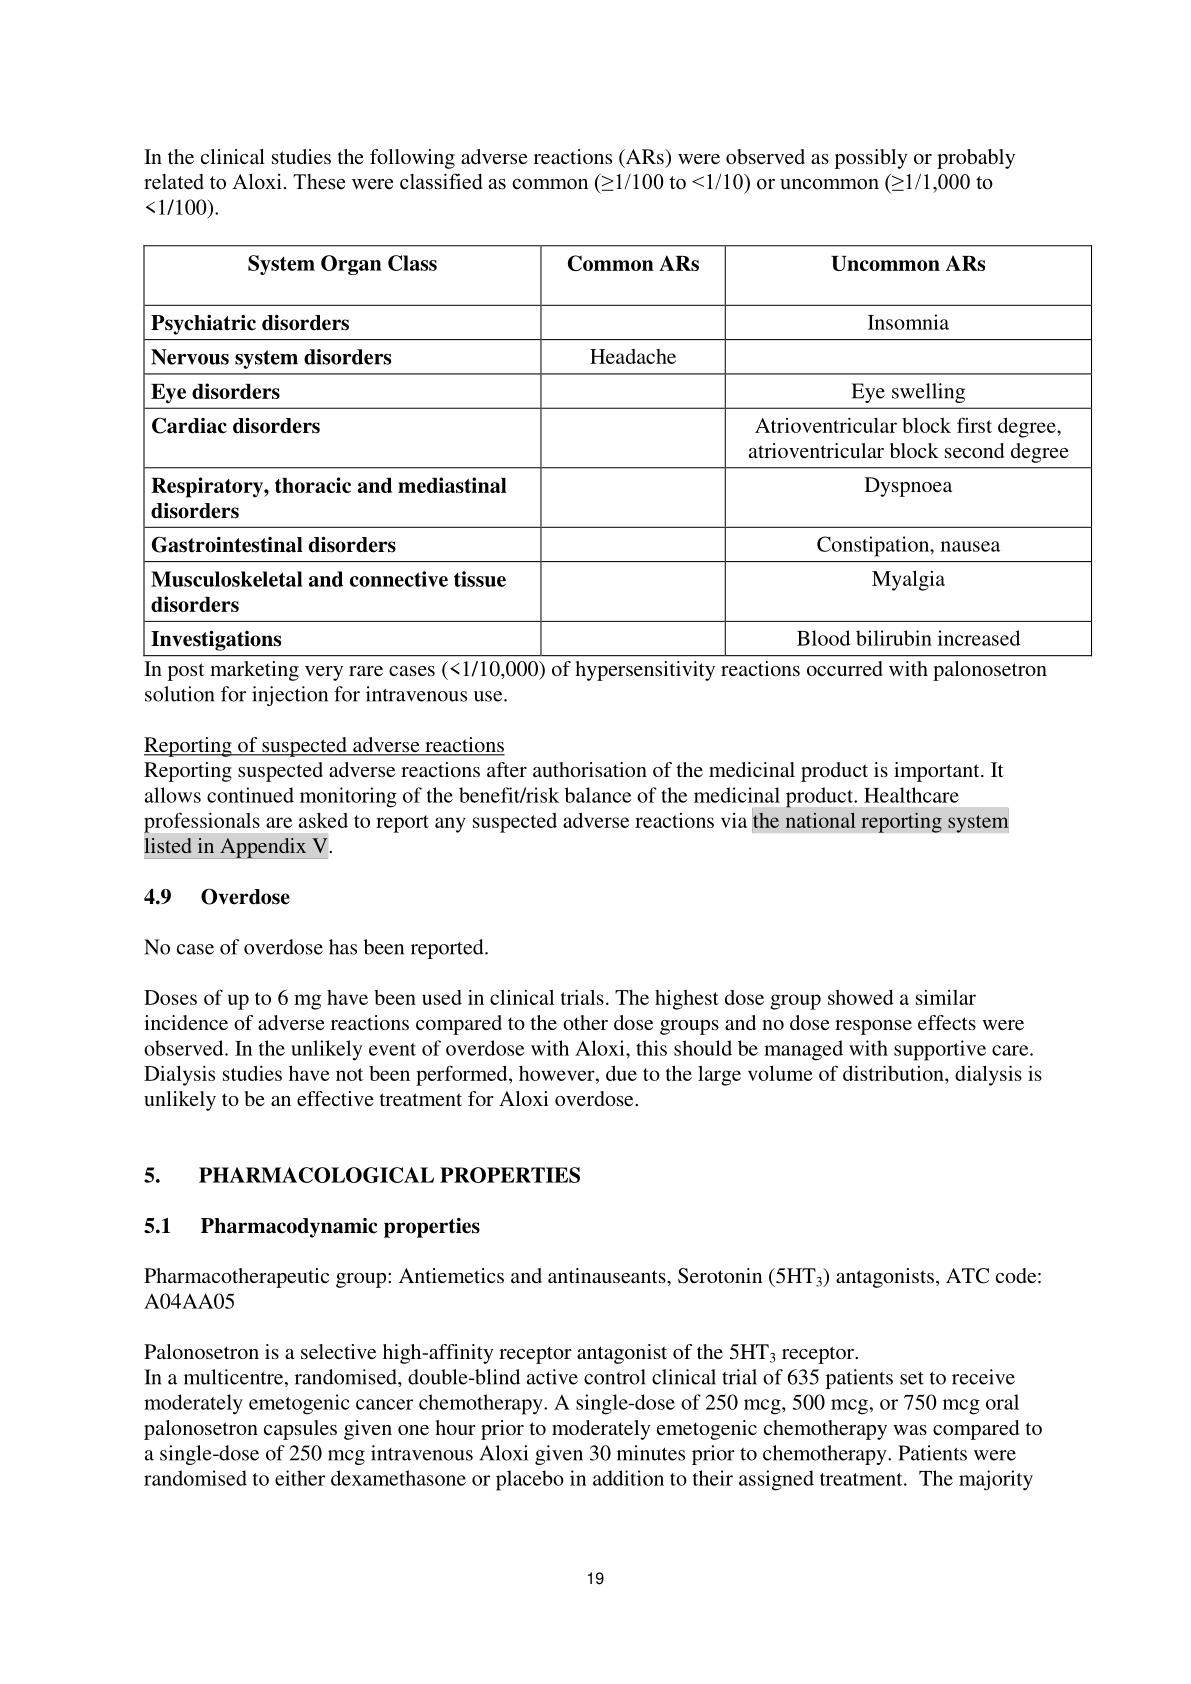full_lined: (140, 244, 1093, 657)
